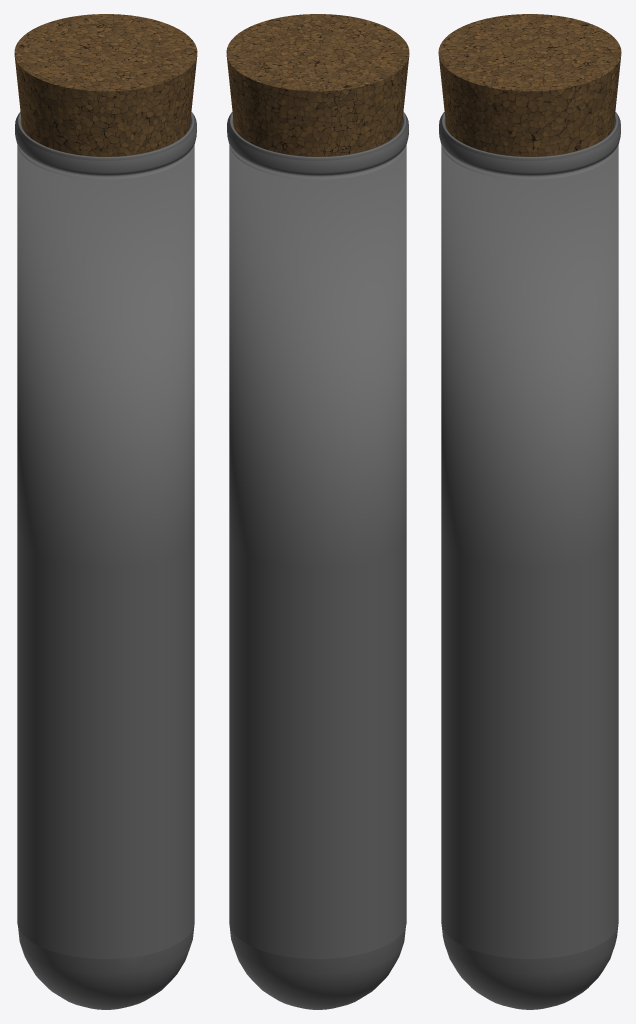
3 renders of one model, left to right at view 1: azimuth 30°, elevation 25°; view 2: azimuth 150°, elevation 25°; view 3: azimuth 270°, elevation 25°, orthographic.
Parts seen in each view (by area): view 1: Cylinder.001_0, Cylinder_1; view 2: Cylinder.001_0, Cylinder_1; view 3: Cylinder.001_0, Cylinder_1.
Part boxes in pixels (left/top/right/bottom): Cylinder.001_0: left=15, top=112, right=196, bottom=1009; Cylinder_1: left=14, top=14, right=197, bottom=156; Cylinder.001_0: left=227, top=112, right=408, bottom=1009; Cylinder_1: left=226, top=14, right=409, bottom=156; Cylinder.001_0: left=439, top=112, right=620, bottom=1009; Cylinder_1: left=438, top=14, right=621, bottom=156.
Bounding box in the file's own units: 0.0206 × 0.1179 × 0.0206.
Materials: 2 (1 with a texture image).
